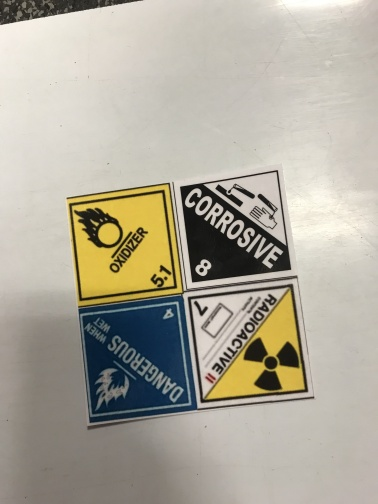Corrosive: (173, 164, 300, 290)
DangerousWhenWet: (79, 294, 196, 422)
Oxidizer: (68, 184, 183, 307)
Radioactive: (183, 276, 308, 404)
